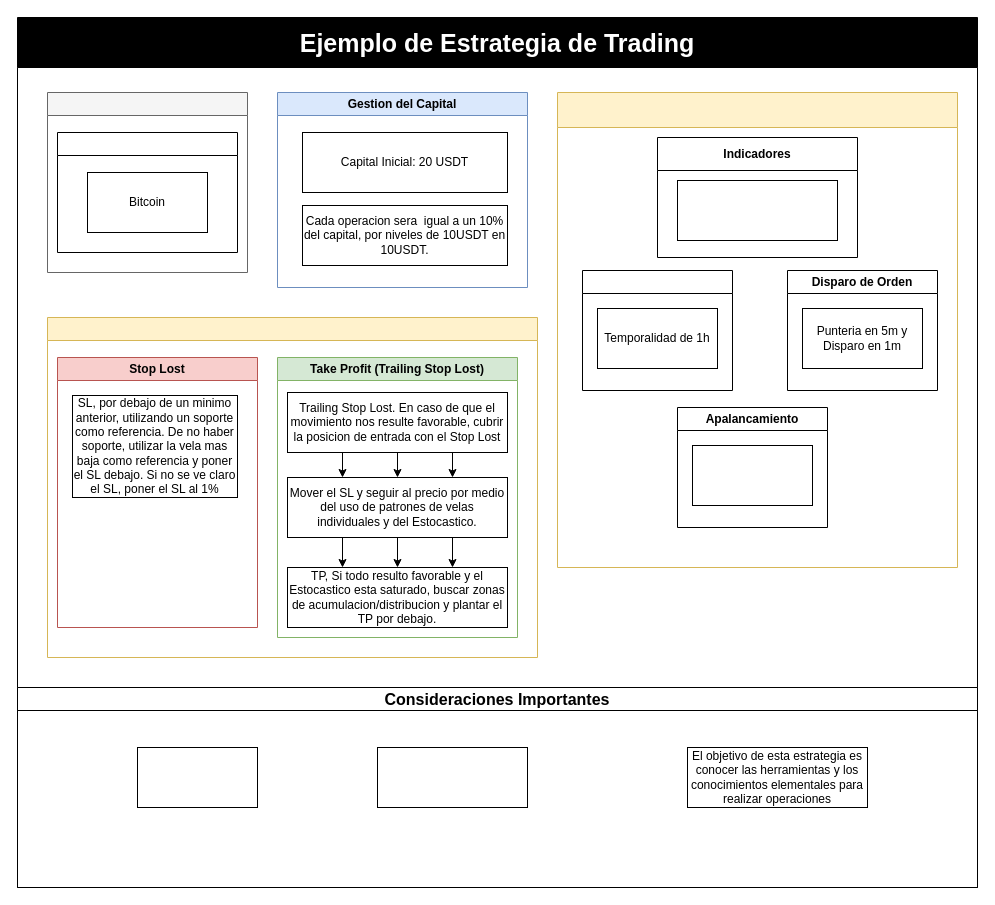
Image size: 995x905. Some labels were removed from this diagram. The shapes that lost their labels are listed below. From the top down, each one's box as (x1, y1, x2, y2) in pixels, then its label:
(46, 92, 248, 272): Mercado
(56, 132, 238, 252): Crypto
(676, 180, 838, 240): EMA de 200 + Estocastico + Soportes y Resistencias.
(582, 270, 732, 390): Analisis
(556, 92, 958, 568): Operativa
(46, 316, 538, 658): Stop lost y Take profit
(692, 444, 812, 506): 5X
(136, 746, 258, 808): No esta demostrado que esta estrategia sea rentable
(376, 746, 528, 808): Se desconoce el porcentaje de operaciones exitosas y fallidas
